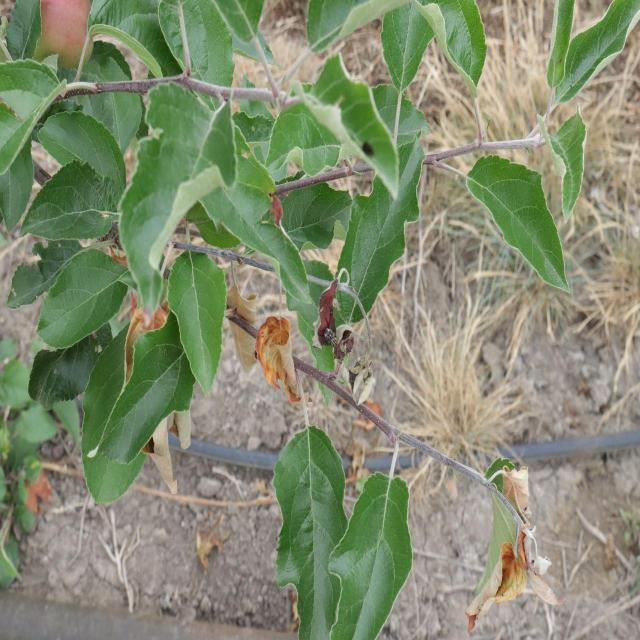-FireBlight-: (489, 458, 543, 607), (261, 316, 305, 401), (318, 276, 349, 362)
